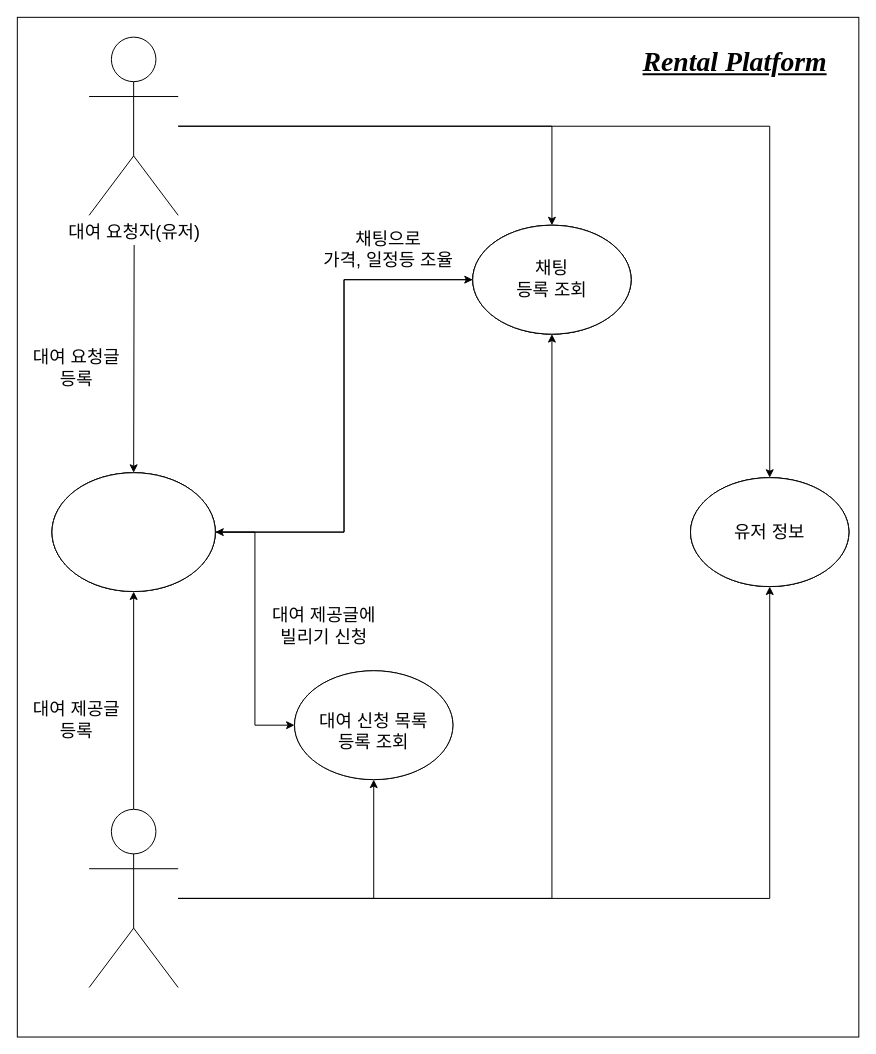
Some shapes in this 876 by 1054 pixel diagram are drawn without their labels. Each missing label, with the centre of its shape:
대여 요청글,제공글 등록 조회: (133,532)
대여 제공자(유저): (133,898)
